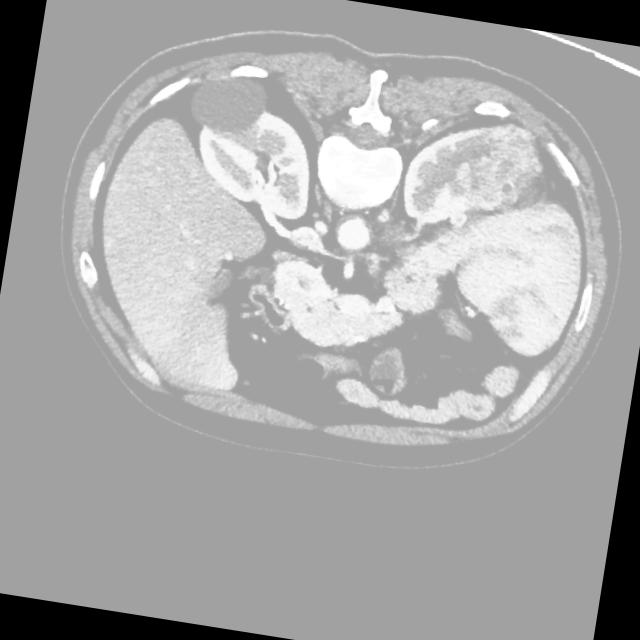TUMOR: (134, 82, 552, 449)
